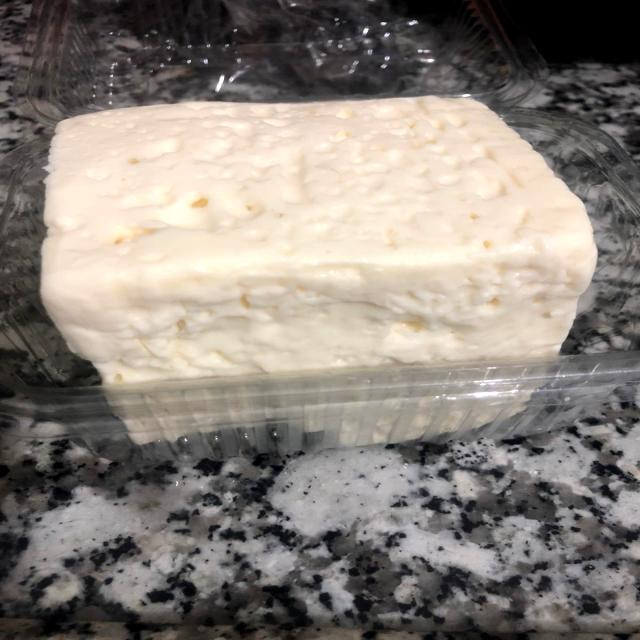cheese: (19, 59, 629, 442)
